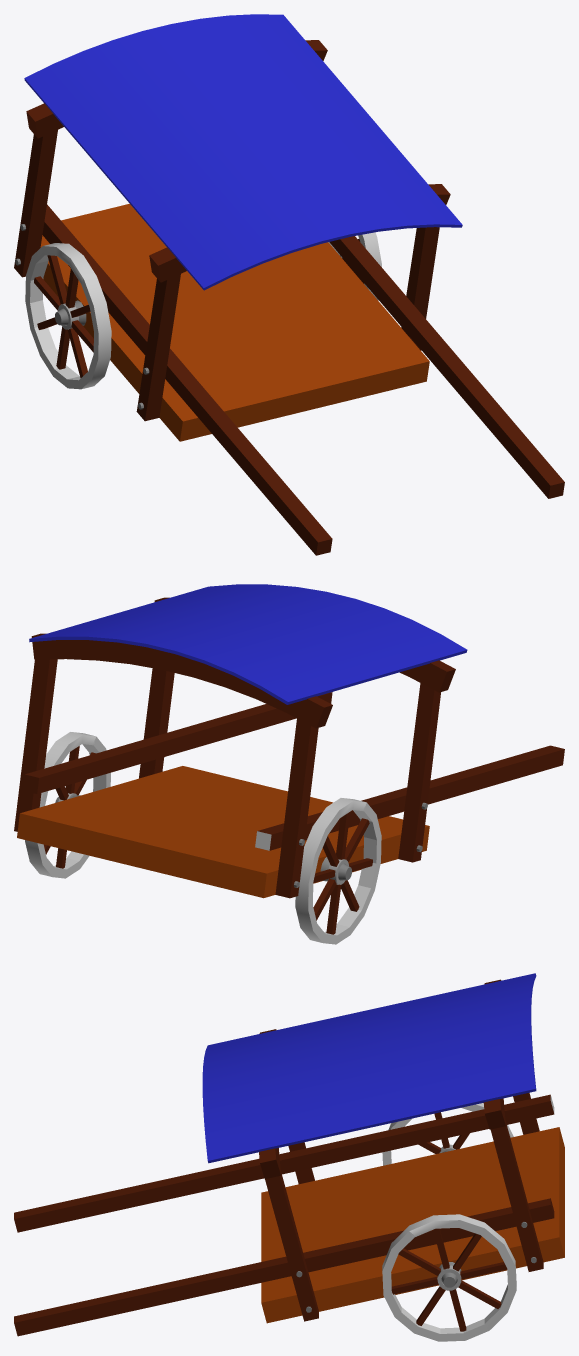
File: Cart 2.fbx
3 views of the same model, one above another, from view 1: azimuth 30°, elevation 25°; view 2: azimuth 150°, elevation 25°; view 3: azimuth 270°, elevation 25° (orthographic). The views are drawn at different scales.
Visible parts, largest first — view 1: Roof, Frame, Wheel.002, TopFrameBar, TopFrameBar.001; view 2: Frame, Roof, Wheel.002, TopFrameBar.001, Wheel.001, TopFrameBar; view 3: Frame, Roof, Wheel.001, Wheel.002, TopFrameBar, TopFrameBar.001.
Boxes of the visible parts, x1,y1,x2,y2 form: Roof: [24, 14, 462, 290]; Frame: [14, 130, 564, 555]; Wheel.002: [25, 243, 111, 389]; TopFrameBar: [149, 184, 450, 282]; TopFrameBar.001: [26, 40, 327, 138]; Frame: [14, 659, 564, 898]; Roof: [29, 584, 467, 704]; Wheel.002: [295, 798, 381, 944]; TopFrameBar.001: [31, 633, 332, 728]; Wheel.001: [25, 732, 110, 878]; TopFrameBar: [154, 597, 455, 692]; Frame: [14, 1092, 564, 1336]; Roof: [202, 973, 536, 1163]; Wheel.001: [382, 1214, 516, 1341]; Wheel.002: [382, 1103, 513, 1165]; TopFrameBar: [259, 1029, 280, 1179]; TopFrameBar.001: [483, 979, 505, 1129].
Bounding box in the file's own units: 398 × 380 × 707.
